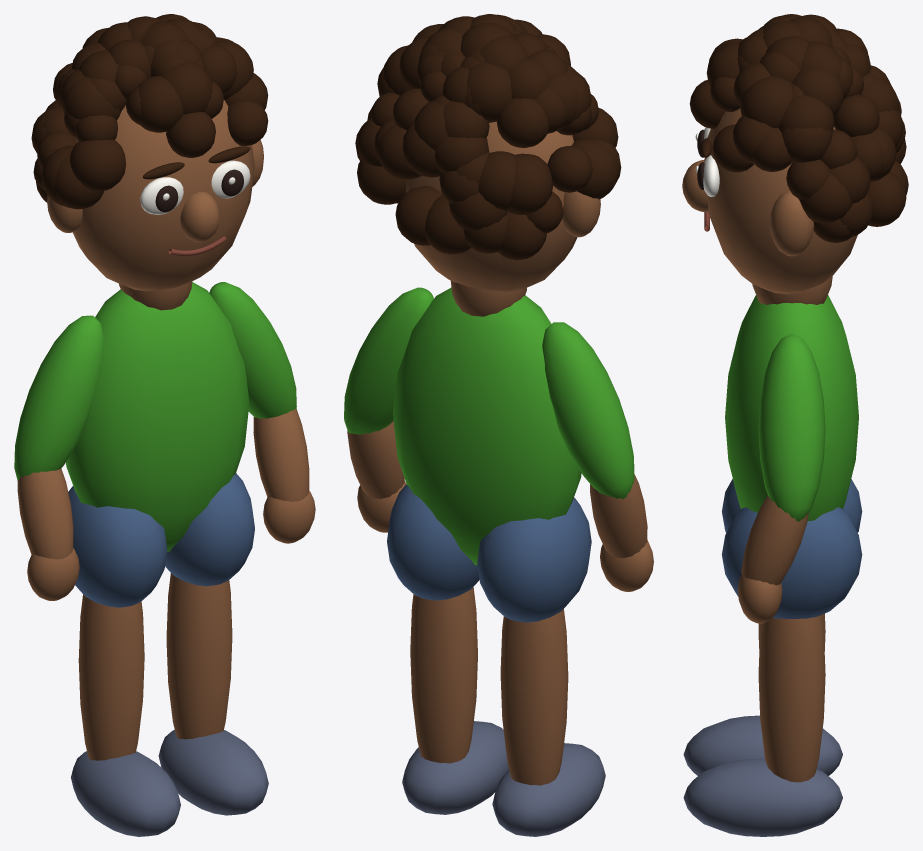
File: ian.glb
The picture shows the model from 3 angles, left to right: view 1: azimuth 30°, elevation 25°; view 2: azimuth 150°, elevation 25°; view 3: azimuth 270°, elevation 25°; orthographic projection. The views are drawn at different scales.
Visible parts, largest first — view 1: Ian character mesh; view 2: Ian character mesh; view 3: Ian character mesh.
Boxes of the visible parts, x1,y1,x2,y2 form: Ian character mesh: [14, 14, 315, 836]; Ian character mesh: [344, 14, 653, 836]; Ian character mesh: [682, 14, 908, 836].
Size of the model in its own units: 1.1 by 2.89 by 0.7522.
